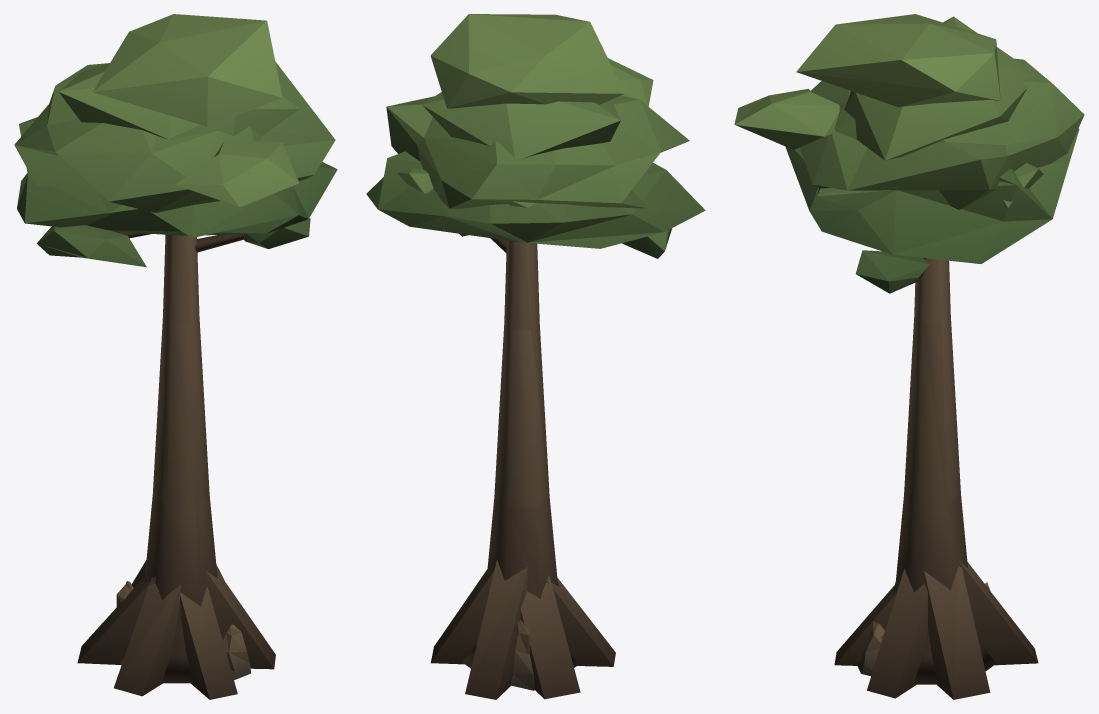
File: cypress-tree.glb
3 renders of one model, left to right at view 1: azimuth 30°, elevation 25°; view 2: azimuth 150°, elevation 25°; view 3: azimuth 270°, elevation 25°, orthographic. The views are drawn at different scales.
Visible parts, largest first — view 1: cypress_tree; view 2: cypress_tree; view 3: cypress_tree.
Part boxes in pixels (x1,y1,x2,y2): cypress_tree: (14,14,337,699); cypress_tree: (366,14,705,699); cypress_tree: (734,14,1084,699).
Size of the model in its own units: 4.36 by 8.54 by 4.26.
